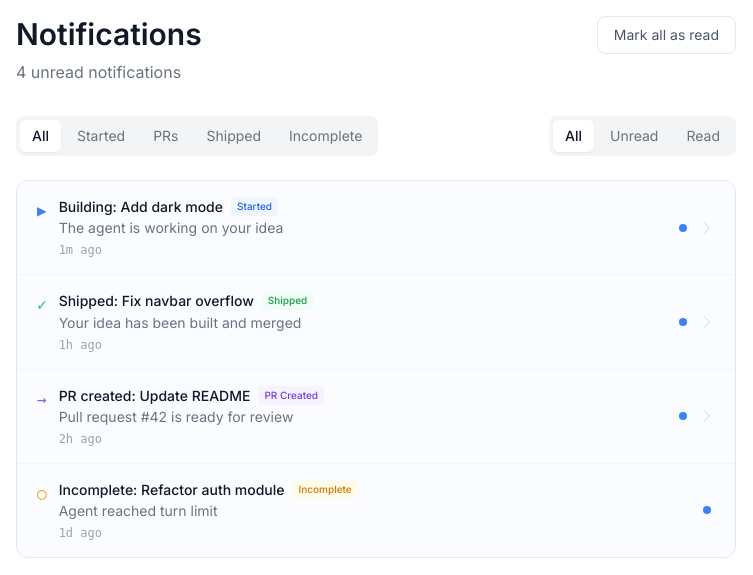
Test case: NotificationsPage › Clear filters › shows clear filters when read filter yields empty
The image size is (753, 575).
Check: the text "Building: Add dark mode" is shown, box [59,197,223,216]
// Click Read filter
Click the button "Read" at (703, 136), box [674,120,732,152]
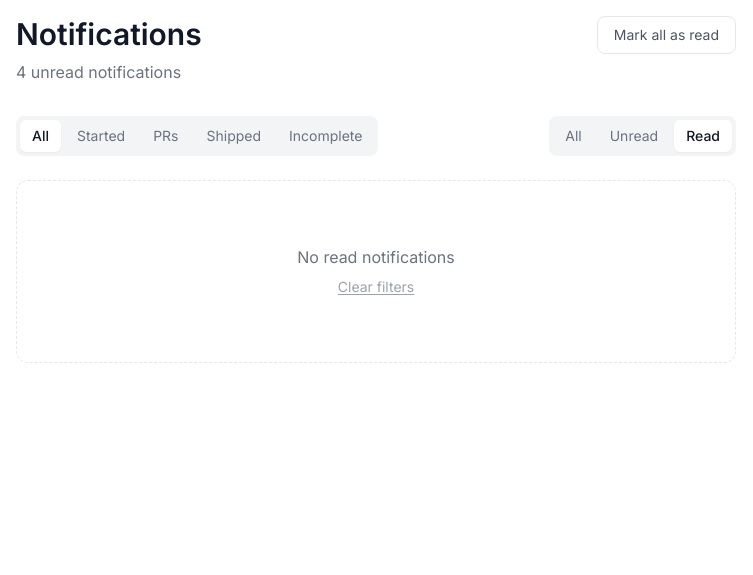
Check: the button "Clear filters" is shown
// Click Clear filters
Click the button "Clear filters" at (376, 287), box [338,277,414,297]
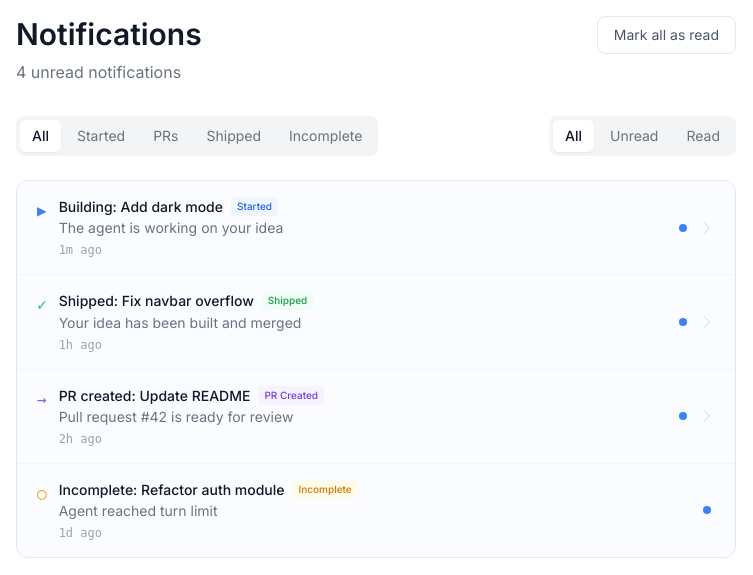
Check: the text "Building: Add dark mode" is shown, box [59,197,223,216]
